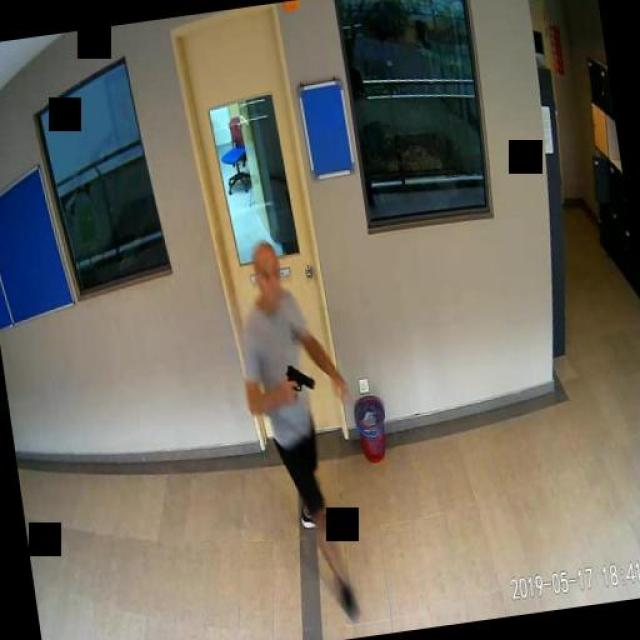gun: (284, 362, 315, 406)
